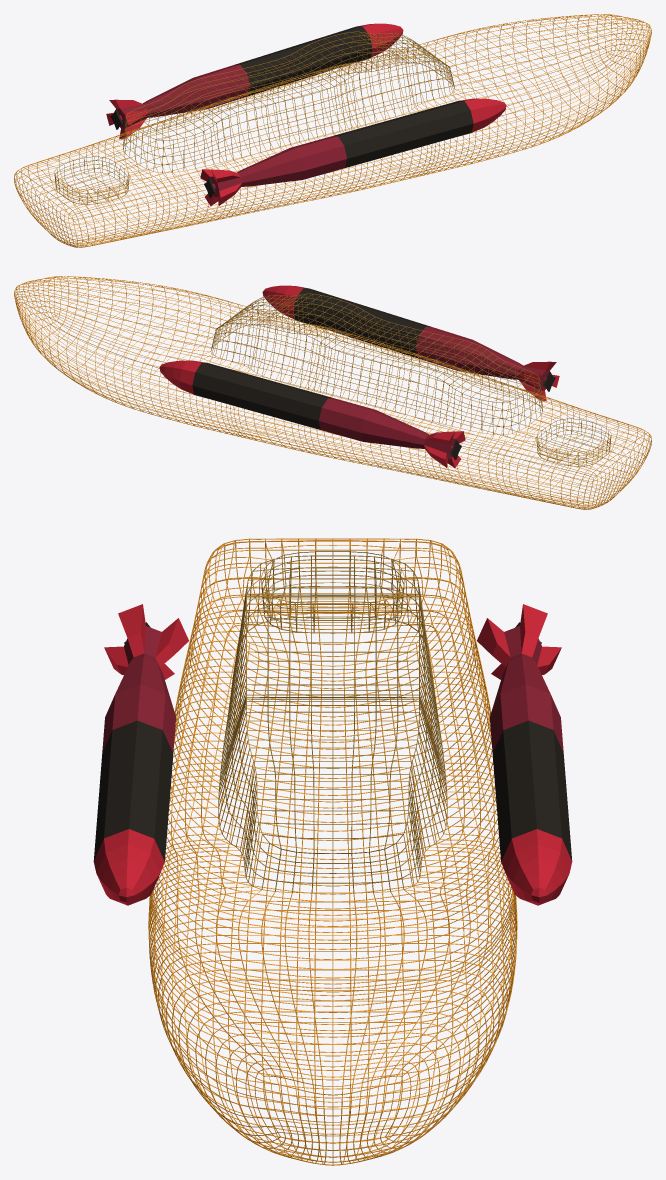
Rendered from Ship_PT_109_Wireframe.obj.
The picture shows the model from 3 angles, top to bottom: view 1: azimuth 30°, elevation 25°; view 2: azimuth 150°, elevation 25°; view 3: azimuth 270°, elevation 25°; orthographic projection. The views are drawn at different scales.
Visible parts, largest first — view 1: PT-109-Test_Wireframe; view 2: PT-109-Test_Wireframe; view 3: PT-109-Test_Wireframe.
Boxes of the visible parts, x1=… form: PT-109-Test_Wireframe: x1=14, y1=14, x2=651, y2=247; PT-109-Test_Wireframe: x1=14, y1=276, x2=651, y2=509; PT-109-Test_Wireframe: x1=93, y1=538, x2=572, y2=1165.
Size of the model in its own units: 4.53 by 0.8475 by 1.54.
2 materials, 2 textured.
